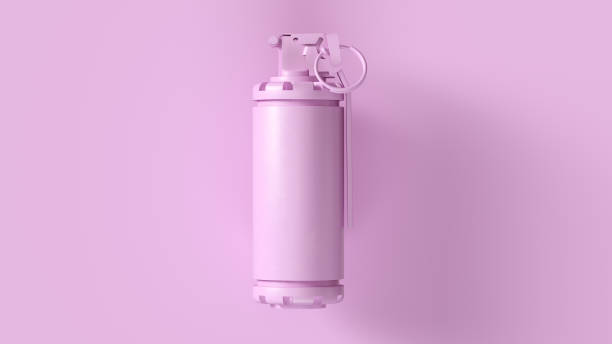e1: (246, 30, 371, 318)
